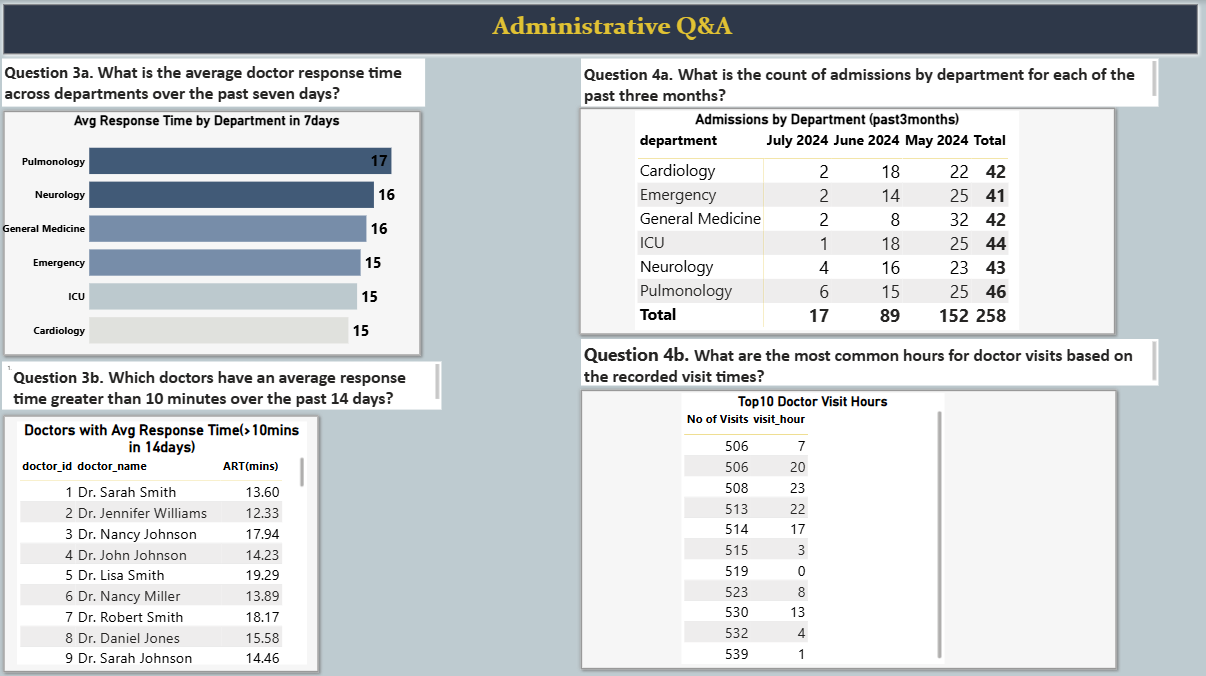

The dashboard page shown, as its layout file describes it:
{"tool":"powerbi","page":{"name":"Q&A 2","canvas":[2560,1440],"ordinal":3},"visuals":[{"type":"shape","box":[1221.6,219.5,1154.8,499.5],"z":0},{"type":"shape","box":[0,871.7,687.1,563.1],"z":1000},{"type":"shape","title":"Abnormal signs past 48hrs","box":[0,225.9,903.5,537.6],"z":2000},{"type":"shape","box":[0,0,2551.3,124.1],"z":3000},{"type":"textbox","box":[992.5,15.9,617.2,95.4],"z":4000},{"type":"textbox","box":[6.4,124.1,897.1,101.8],"z":5000},{"type":"textbox","box":[6.4,766.7,932.1,101.8],"z":6000},{"type":"textbox","box":[1234.3,124.1,1224.8,101.8],"z":7000},{"type":"textbox","box":[1234.3,719,1224.8,98.6],"z":8000},{"type":"clusteredBarChart","title":"Avg Response Time by Department in 7days","fields":{"Category":["doctors.department"],"Y":["Measures_.Avg Response Time"]},"box":[0,238.6,881.2,524.9],"z":9000},{"type":"tableEx","title":"Doctors with Avg Response Time(>10mins in 14days) ","fields":{"Values":["Avg Response Time (14 days) (>10mins).doctor_id","Avg Response Time (14 days) (>10mins).doctor_name","Avg Response Time (14 days) (>10mins).Average Response Time (mins)"]},"box":[38.2,893.9,614,515.4],"z":10000},{"type":"pivotTable","title":"Admissions by Department (past3months)","fields":{"Rows":["Admissions by Department (3Months).department"],"Columns":["Admissions by Department (3Months).month_year"],"Values":["Sum(Admissions by Department (3Months).Admission Count)"]},"box":[1348.8,235.4,814.4,464.5],"z":11000},{"type":"shape","box":[1224.8,817.6,1154.8,610.8],"z":12000},{"type":"tableEx","title":"Top10 Doctor Visit Hours","fields":{"Values":["Top Visit Hours.No of Visits","Top Visit Hours.visit_hour"]},"box":[1447.5,833.5,556.7,572.6],"z":13000}]}

Visuals, with their boxes in screenshot pixels (x1, y1, x2, y2), scaled from the page's 2560x1440 canvas onto the 1206x676 screenshot:
shape: bbox(575, 103, 1120, 338)
shape: bbox(0, 409, 324, 674)
"Abnormal signs past 48hrs" shape: bbox(0, 106, 426, 358)
shape: bbox(0, 0, 1202, 58)
textbox: bbox(468, 7, 758, 52)
textbox: bbox(3, 58, 426, 106)
textbox: bbox(3, 360, 442, 408)
textbox: bbox(581, 58, 1158, 106)
textbox: bbox(581, 338, 1158, 384)
"Avg Response Time by Department in 7days" clusteredBarChart: bbox(0, 112, 415, 358)
"Doctors with Avg Response Time(>10mins in 14days) " tableEx: bbox(18, 420, 307, 662)
"Admissions by Department (past3months)" pivotTable: bbox(635, 111, 1019, 329)
shape: bbox(577, 384, 1121, 671)
"Top10 Doctor Visit Hours" tableEx: bbox(682, 391, 944, 660)
